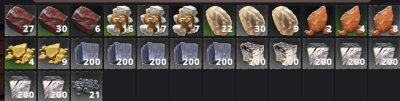cinnabar mineral: (5, 5, 36, 35), (39, 5, 69, 36), (71, 5, 101, 35)
dolomite mineral: (137, 5, 167, 36), (170, 6, 201, 36), (104, 5, 134, 35)
granite stone: (137, 39, 168, 68), (105, 39, 135, 68), (205, 38, 234, 68), (172, 39, 202, 67), (73, 39, 101, 67)
halite mineral: (237, 5, 267, 36), (204, 6, 234, 35), (270, 5, 299, 35)
limestone stone: (237, 38, 267, 67), (270, 38, 300, 67)
marble stone: (304, 38, 334, 67), (370, 39, 400, 68), (6, 71, 35, 100), (39, 72, 68, 101), (338, 38, 366, 68)
nitre mineral: (302, 5, 333, 35), (370, 5, 400, 36), (338, 5, 365, 35)
sulphur mineral: (7, 39, 37, 68), (37, 38, 67, 67)
